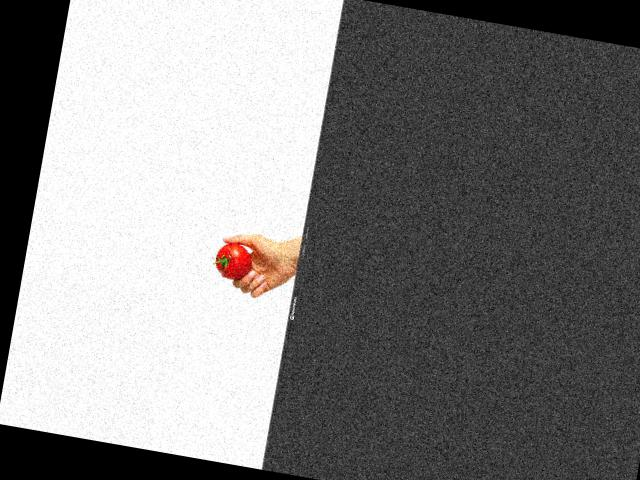tomato: (212, 240, 254, 281)
